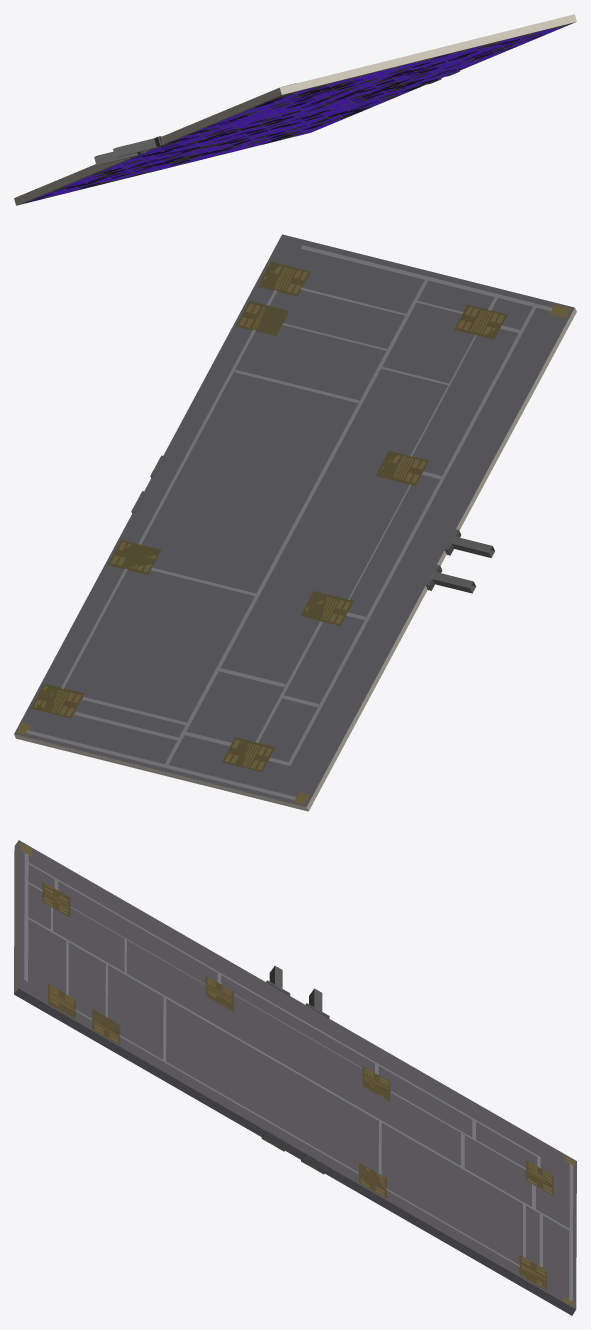
The model's file is Panel_derecha2.obj.
3 views of the same model, one above another, from view 1: azimuth 30°, elevation 25°; view 2: azimuth 150°, elevation 25°; view 3: azimuth 270°, elevation 25° (orthographic). The views are drawn at different scales.
Parts seen in each view (by area): view 1: Panel_derecha_2_cal_solar_back, Panel_derecha_2_cal_solar_side, Panel_derecha_2_cal_solar_1, Panel_derecha_2_cal_solar_2, Panel_derecha_2_cal_solar_3, Panel_derecha_2_cal_solar_6, Panel_derecha_2_cal_solar_4, Panel_derecha_2_cal_solar_5, Panel_derecha_2_cal_solar_7, Panel_derecha_2_cal_grey; view 2: Panel_derecha_2_cal_solar_back, Panel_derecha_2_cal_silver, Panel_derecha_2_cal_brown, Panel_derecha_2_cal_bronze, Panel_derecha_2_cal_solar_side, Panel_derecha_2_cal_grey; view 3: Panel_derecha_2_cal_solar_back, Panel_derecha_2_cal_silver, Panel_derecha_2_cal_brown, Panel_derecha_2_cal_bronze, Panel_derecha_2_cal_grey, Panel_derecha_2_cal_solar_side.
Boxes of the visible parts, x1,y1,x2,y2 form: Panel_derecha_2_cal_solar_back: (17, 22, 575, 205); Panel_derecha_2_cal_solar_side: (14, 14, 576, 205); Panel_derecha_2_cal_solar_1: (75, 26, 563, 184); Panel_derecha_2_cal_solar_2: (44, 30, 554, 196); Panel_derecha_2_cal_solar_3: (99, 46, 505, 180); Panel_derecha_2_cal_solar_6: (54, 33, 541, 191); Panel_derecha_2_cal_solar_4: (25, 34, 544, 203); Panel_derecha_2_cal_solar_5: (66, 51, 477, 188); Panel_derecha_2_cal_solar_7: (78, 39, 520, 186); Panel_derecha_2_cal_grey: (94, 70, 460, 165); Panel_derecha_2_cal_solar_back: (14, 234, 574, 806); Panel_derecha_2_cal_silver: (26, 245, 552, 800); Panel_derecha_2_cal_brown: (31, 261, 507, 772); Panel_derecha_2_cal_bronze: (16, 265, 570, 804); Panel_derecha_2_cal_solar_side: (14, 308, 576, 811); Panel_derecha_2_cal_grey: (131, 455, 494, 593); Panel_derecha_2_cal_solar_back: (14, 840, 576, 1315); Panel_derecha_2_cal_silver: (24, 853, 573, 1301); Panel_derecha_2_cal_brown: (42, 881, 553, 1290); Panel_derecha_2_cal_bronze: (21, 842, 575, 1307); Panel_derecha_2_cal_grey: (261, 966, 329, 1174); Panel_derecha_2_cal_solar_side: (14, 840, 18, 993).
Bounding box in the file's own units: 9.17 × 8.16 × 12.7.
